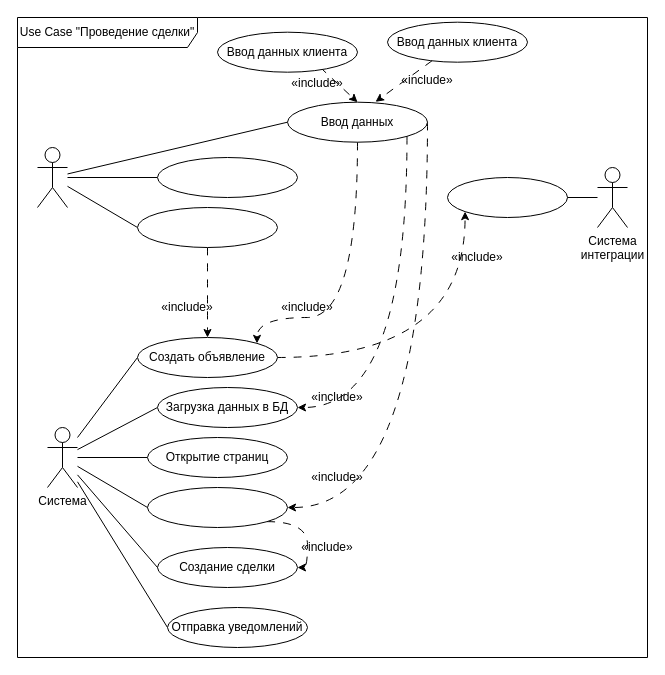
Some shapes in this 665 by 675 pixel diagram are drawn without their labels. The shapes that lost their labels are listed below. From the top down, each one's centre as x and y in pixels, then its label:
point (52, 177): Агент
point (227, 177): Просмотр списка объектов
point (507, 197): Загрузка объявления
point (207, 227): Загрузка фото объекта
point (217, 507): Формирование договора
